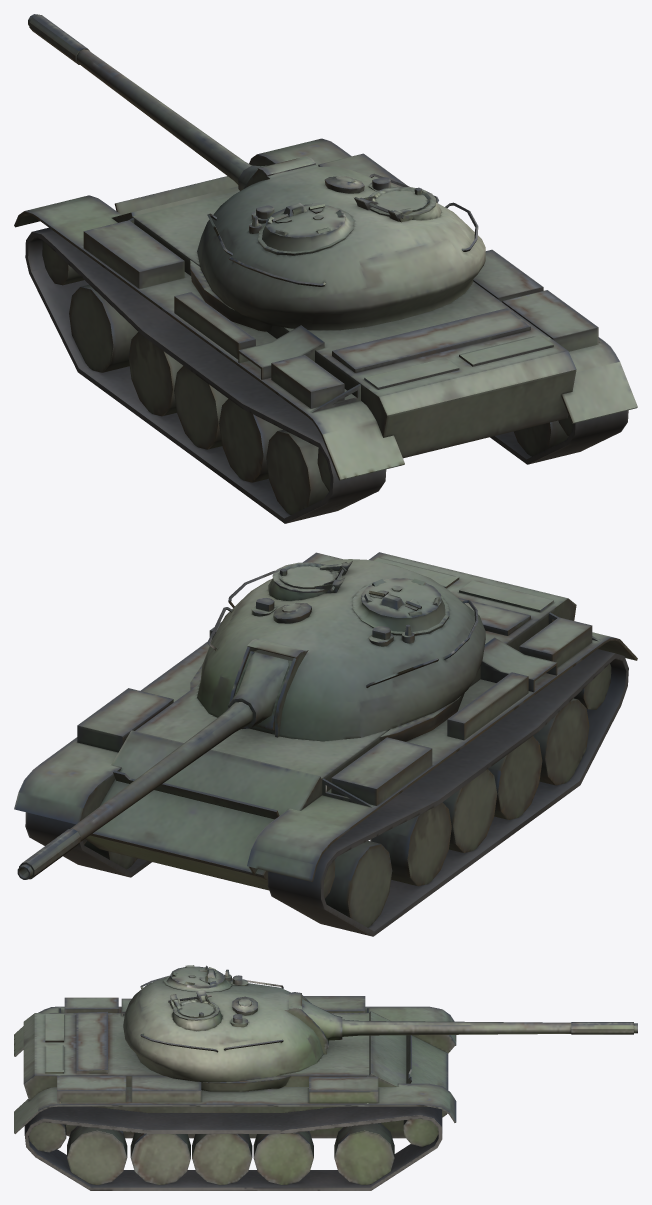
The picture shows the model from 3 angles, top to bottom: view 1: azimuth 30°, elevation 25°; view 2: azimuth 150°, elevation 25°; view 3: azimuth 270°, elevation 25°; orthographic projection. The views are drawn at different scales.
Parts seen in each view (by area): view 1: T-55A Hull, T-55A Turret; view 2: T-55A Hull, T-55A Turret; view 3: T-55A Hull, T-55A Turret.
Part boxes in pixels (bbox=[...]): T-55A Hull: bbox=[14, 138, 637, 523]; T-55A Turret: bbox=[28, 14, 485, 330]; T-55A Hull: bbox=[14, 552, 637, 936]; T-55A Turret: bbox=[17, 559, 485, 879]; T-55A Hull: bbox=[14, 996, 456, 1190]; T-55A Turret: bbox=[123, 965, 637, 1082].
Bounding box in the file's own units: 3.27 × 2.4 × 8.74.
